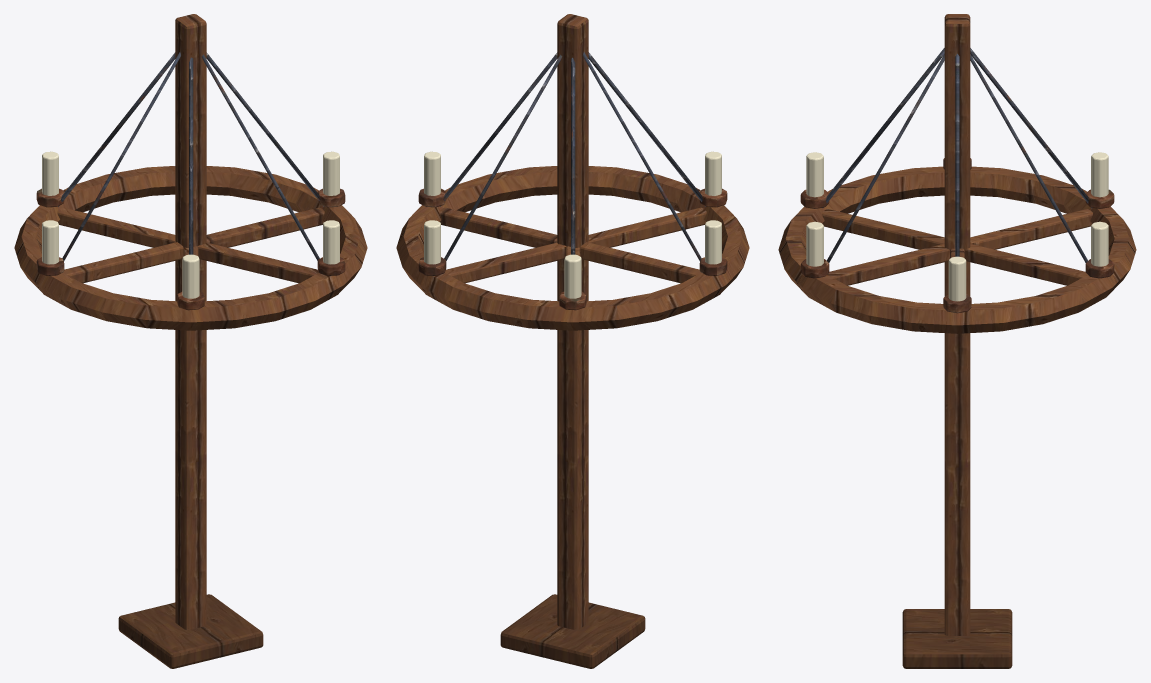
File: chandelier.glb
3 renders of one model, left to right at view 1: azimuth 30°, elevation 25°; view 2: azimuth 150°, elevation 25°; view 3: azimuth 270°, elevation 25°, orthographic.
Parts seen in each view (by area): view 1: model; view 2: model; view 3: model.
Part boxes in pixels (<box>): model: <box>14,14,367,668</box>; model: <box>396,14,749,668</box>; model: <box>778,14,1136,668</box>.
Bounding box in the file's own units: 0.98 × 1.9 × 0.98.
Materials: 5 (4 with a texture image).
